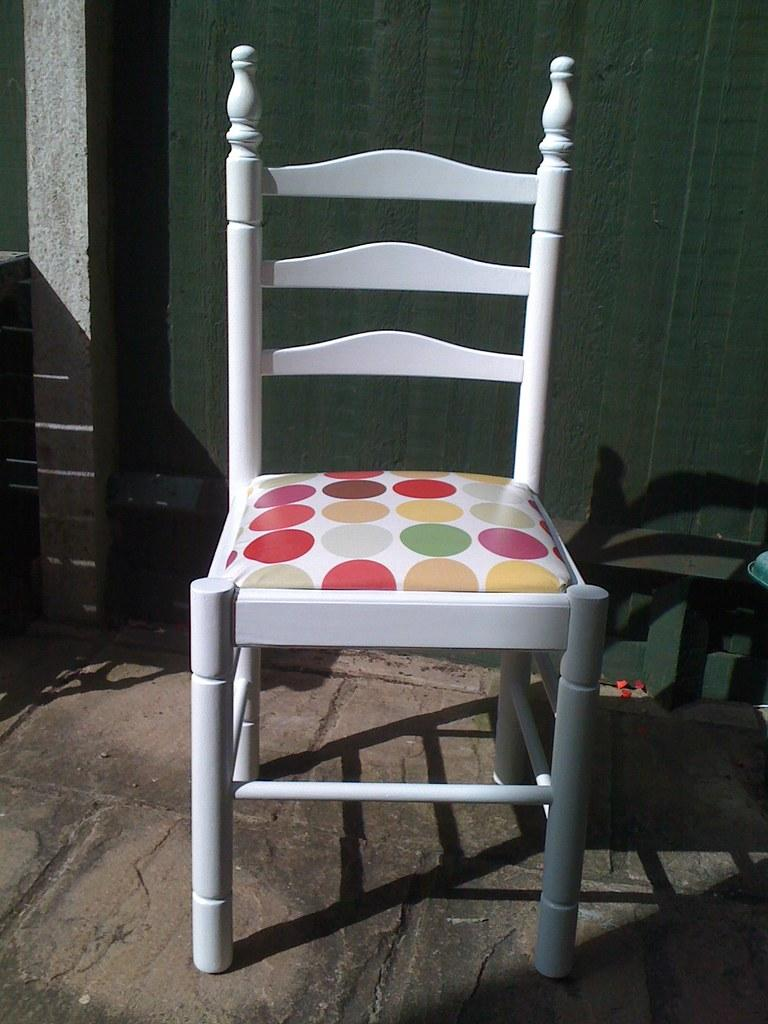chair: (189, 44, 610, 980)
